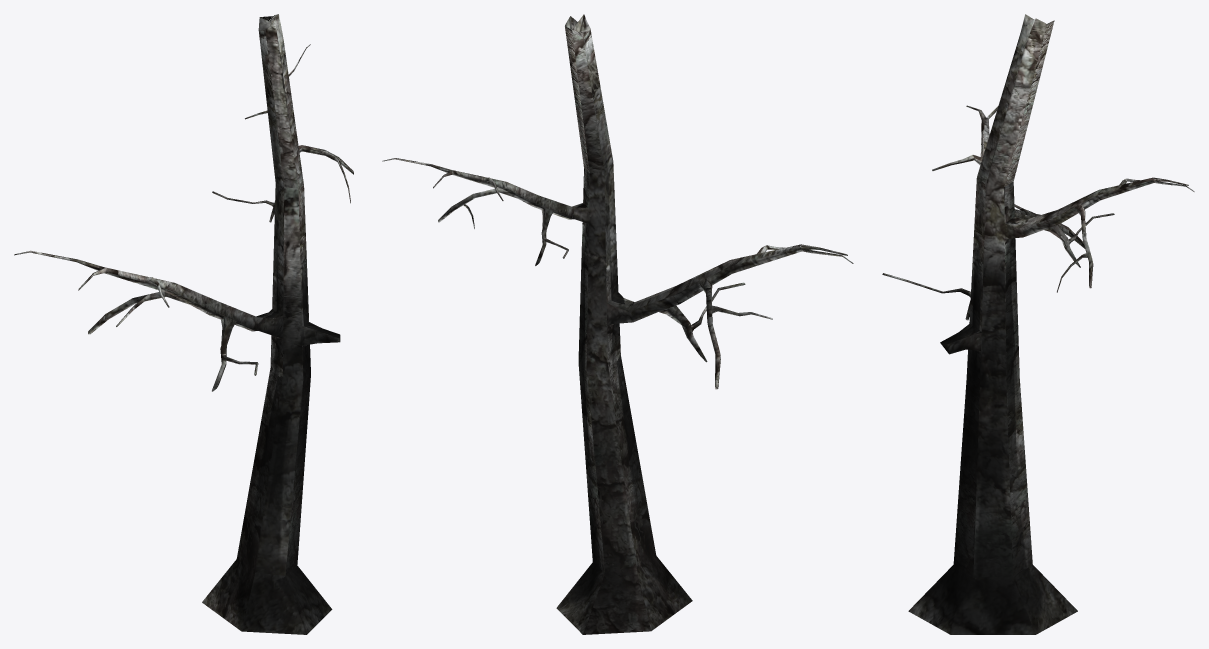
Rendered from deadtree3burned.fbx.
The picture shows the model from 3 angles, left to right: view 1: azimuth 30°, elevation 25°; view 2: azimuth 150°, elevation 25°; view 3: azimuth 270°, elevation 25°; orthographic projection. The views are drawn at different scales.
Visible parts, largest first — view 1: Cube; view 2: Cube; view 3: Cube.
Boxes of the visible parts, box(x1,y1,x2,y2) form: Cube: box(14, 14, 353, 634); Cube: box(382, 14, 853, 634); Cube: box(882, 14, 1194, 634).
Bounding box in the file's own units: 470 × 685 × 318.
